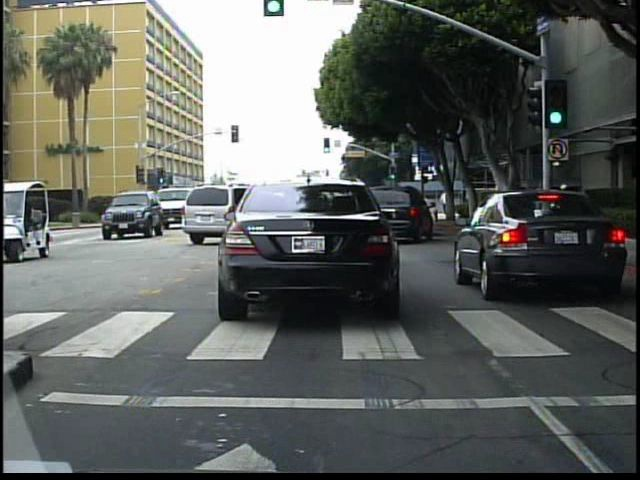person: (539, 174, 559, 232), (437, 186, 451, 219)
